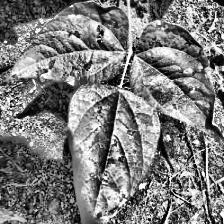ALS: (63, 76, 164, 224), (132, 19, 224, 147), (10, 0, 126, 90)
